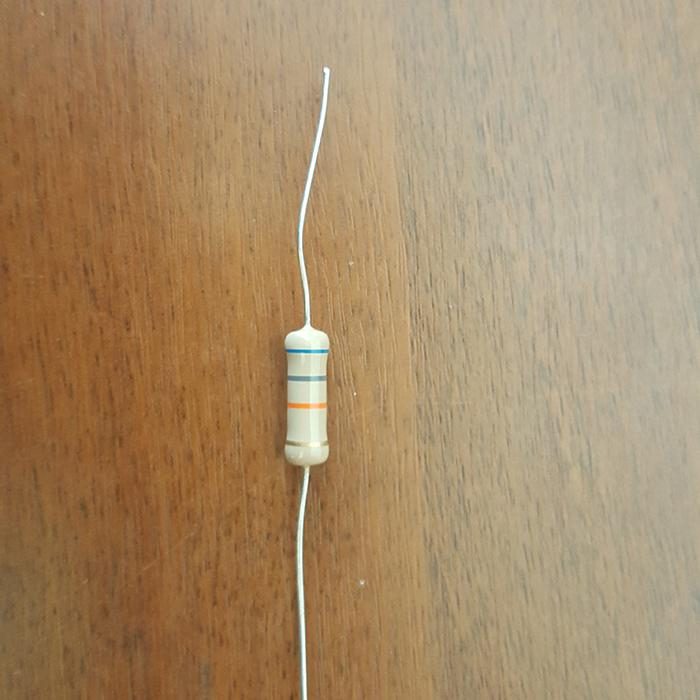resistor: (283, 324, 330, 464)
